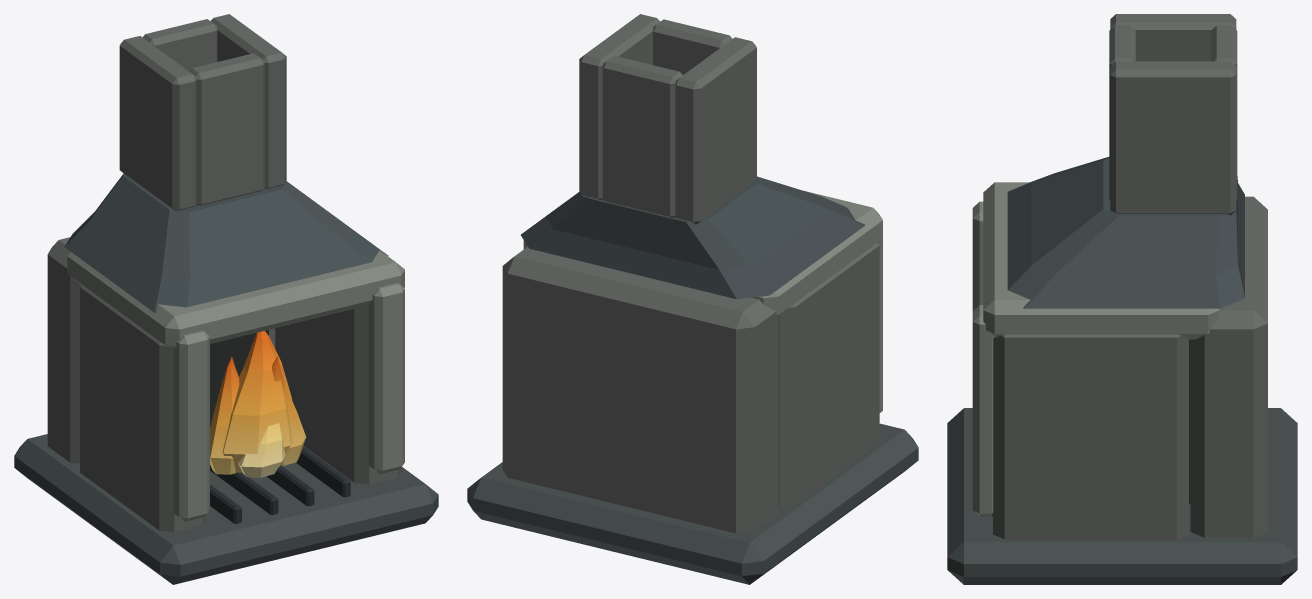
Rendered from smelter.glb.
3 views of the same model, side by side, from view 1: azimuth 30°, elevation 25°; view 2: azimuth 150°, elevation 25°; view 3: azimuth 270°, elevation 25° (orthographic). The views are drawn at different scales.
Parts seen in each view (by area): view 1: smelter_body, smelter_flame; view 2: smelter_body; view 3: smelter_body.
Part boxes in pixels (x1,y1,x2,y2): smelter_body: (14, 14, 438, 584); smelter_flame: (210, 331, 305, 477); smelter_body: (467, 14, 918, 584); smelter_body: (947, 14, 1297, 584).
Size of the model in its own units: 2 by 3 by 2.
